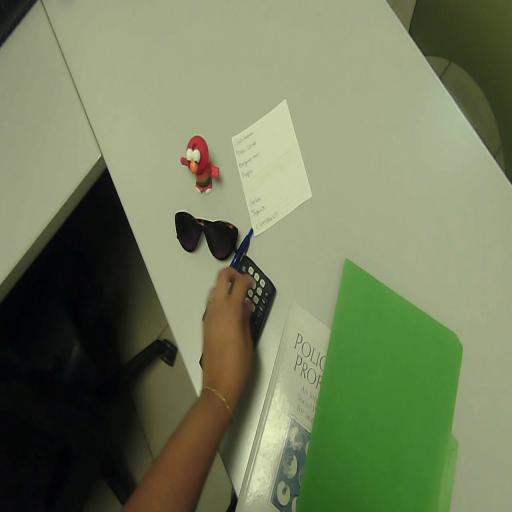pen: (230, 229, 253, 267)
